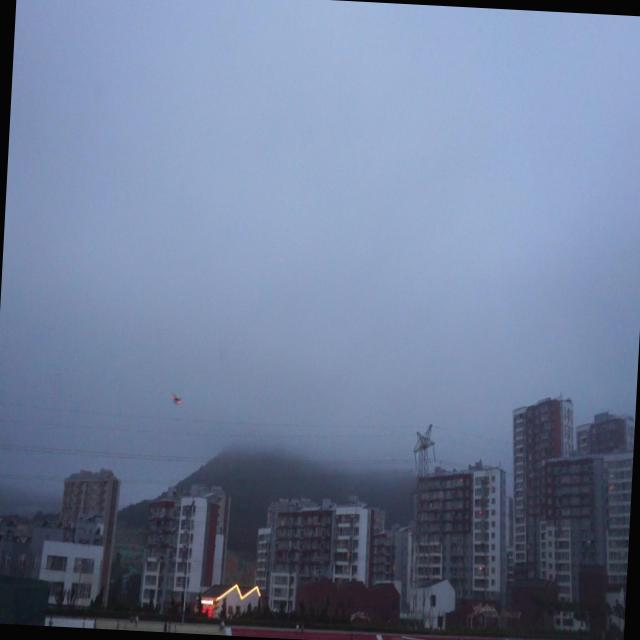drone: (170, 388, 182, 408)
